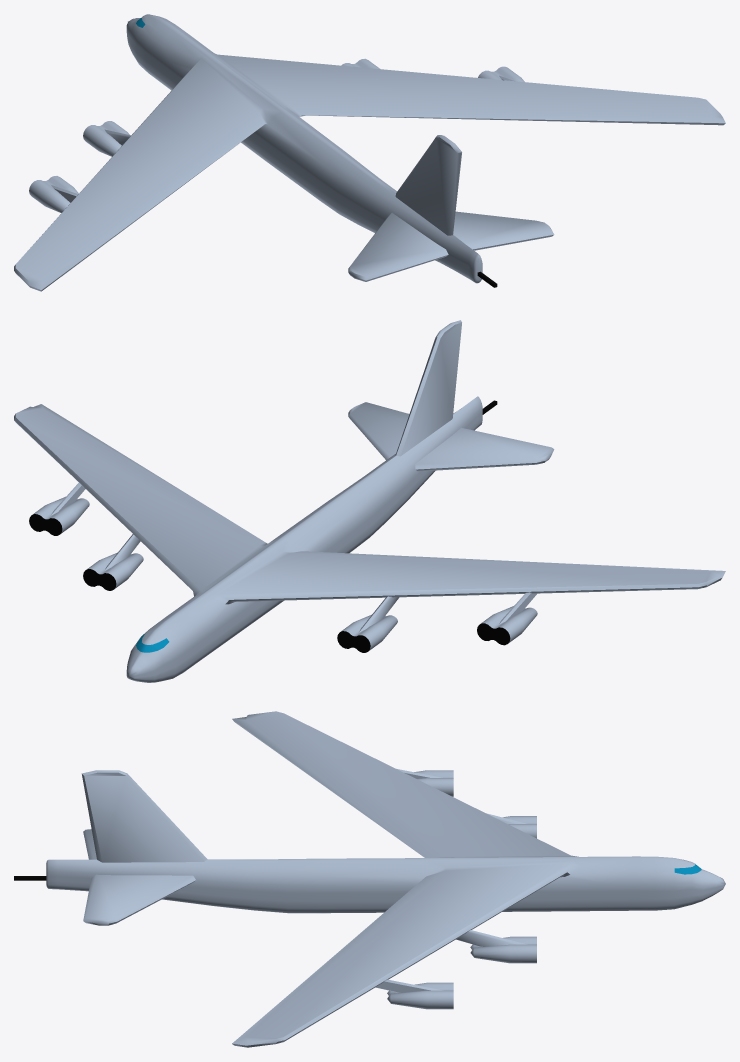
The picture shows the model from 3 angles, top to bottom: view 1: azimuth 30°, elevation 25°; view 2: azimuth 150°, elevation 25°; view 3: azimuth 270°, elevation 25°; orthographic projection. The views are drawn at different scales.
Visible parts, largest first — view 1: Body; view 2: Body; view 3: Body.
Part boxes in pixels (box(x1,y1,x2,y2)): Body: box(14, 14, 725, 291); Body: box(14, 320, 725, 682); Body: box(46, 711, 725, 1047).
Size of the model in its own units: 55.41 by 11.02 by 50.71.
